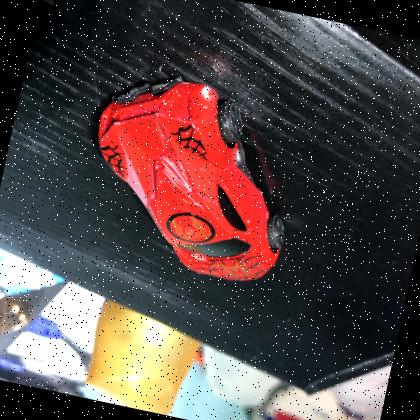Car: (97, 78, 286, 281)
